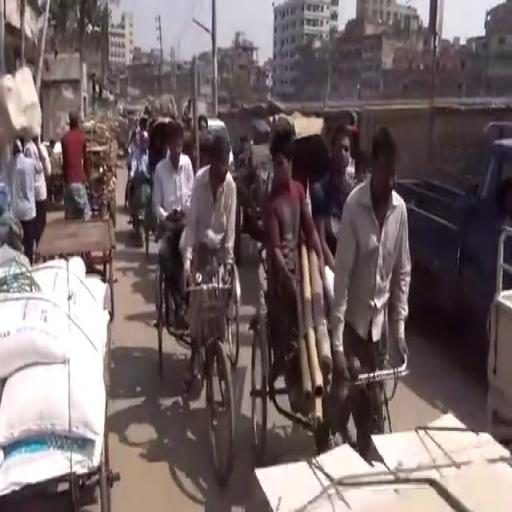pickup: (393, 118, 511, 333)
rickshaw: (251, 129, 413, 450), (153, 120, 246, 486), (32, 107, 120, 323)
scooter: (127, 120, 152, 240)
